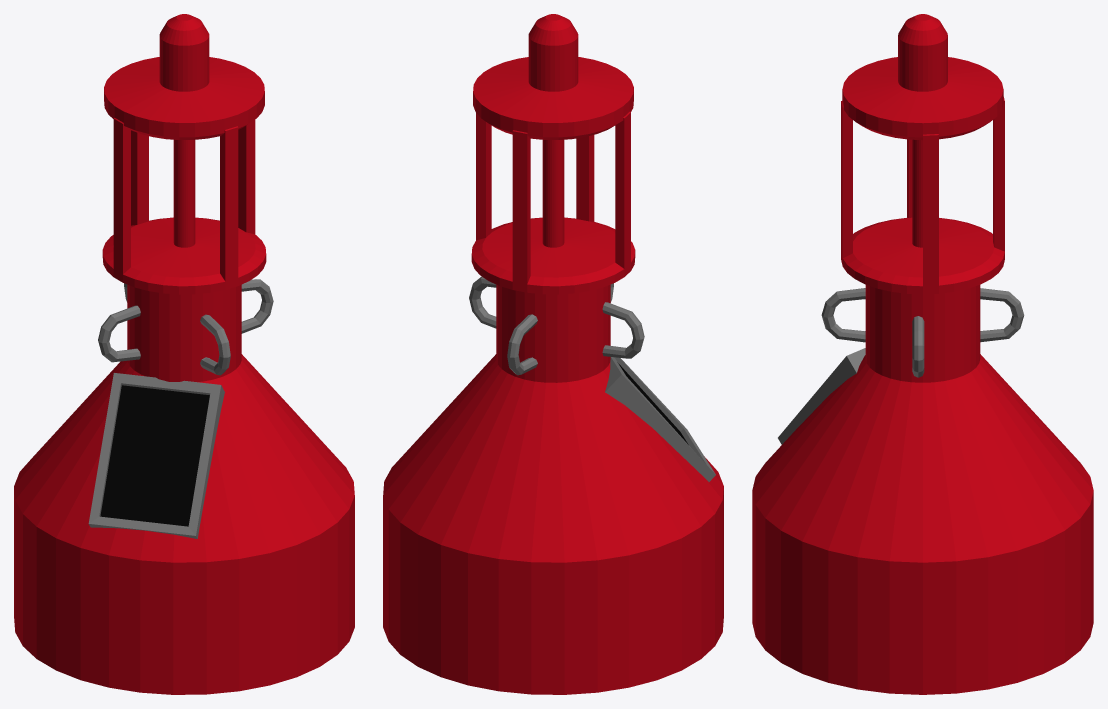
The model's file is Boje.fbx.
3 renders of one model, left to right at view 1: azimuth 30°, elevation 25°; view 2: azimuth 150°, elevation 25°; view 3: azimuth 270°, elevation 25°, orthographic.
Visible parts, largest first — view 1: Boje, Plane, Frame, ChainAnkor4, ChainAnkor2, ChainAnkor3; view 2: Boje, Frame, ChainAnkor4, ChainAnkor1, ChainAnkor3; view 3: Boje, Frame, ChainAnkor2, ChainAnkor1, ChainAnkor3.
Part boxes in pixels (x1=…): Boje: x1=14, y1=14, x2=354, y2=694; Plane: x1=100, y1=385, x2=209, y2=526; Frame: x1=88, y1=373, x2=224, y2=538; ChainAnkor4: x1=98, y1=305, x2=140, y2=362; ChainAnkor2: x1=200, y1=314, x2=230, y2=375; ChainAnkor3: x1=241, y1=279, x2=273, y2=333; Boje: x1=383, y1=14, x2=723, y2=694; Frame: x1=605, y1=357, x2=715, y2=481; ChainAnkor4: x1=602, y1=302, x2=644, y2=358; ChainAnkor1: x1=507, y1=314, x2=537, y2=375; ChainAnkor3: x1=469, y1=276, x2=496, y2=328; Boje: x1=752, y1=14, x2=1093, y2=694; Frame: x1=778, y1=348, x2=865, y2=444; ChainAnkor2: x1=821, y1=288, x2=865, y2=342; ChainAnkor1: x1=980, y1=288, x2=1024, y2=342; ChainAnkor3: x1=912, y1=316, x2=924, y2=377.
Bounding box in the file's own units: 200 × 391 × 200.
